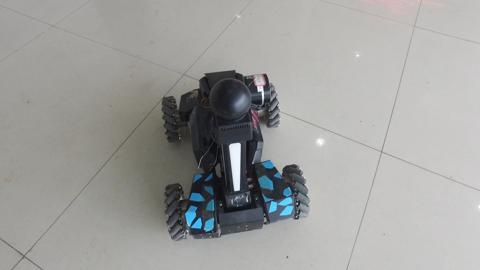chariot: (148, 68, 304, 231)
